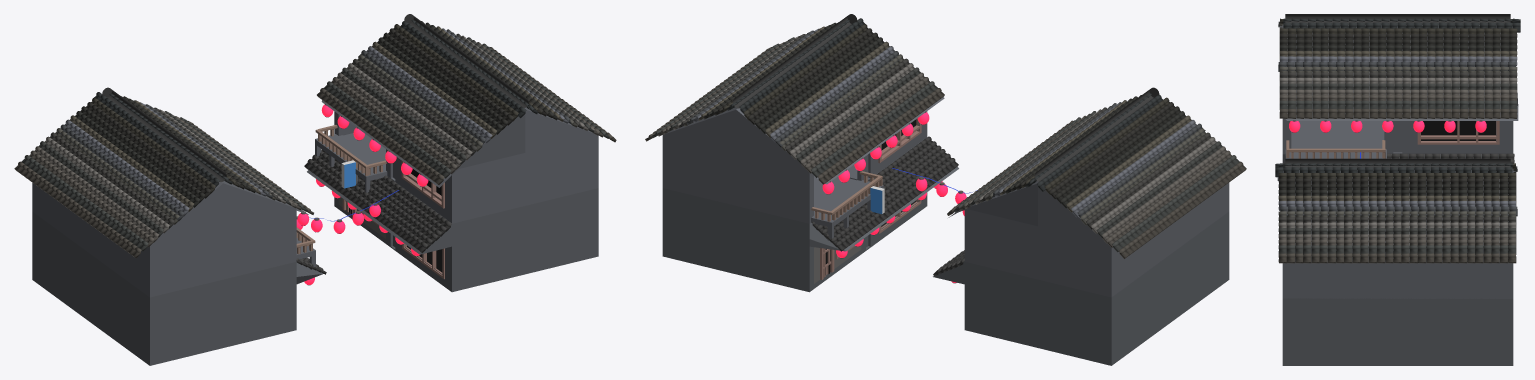
File: house_2(japansese).fbx
3 renders of one model, left to right at view 1: azimuth 30°, elevation 25°; view 2: azimuth 150°, elevation 25°; view 3: azimuth 270°, elevation 25°, orthographic.
Visible parts, largest first — view 1: 平面.004, 平面, 平面.001, 平面.002, 円.001, 円.020, 円.033, 円.034, 円.021, 円.002, 円.006, 円.030 (+30 smaller); view 2: 平面.004, 平面, 平面.001, 平面.002, 円.001, 円.020, 円.033, 円.034, 円.021, 円.006, 円.002, 円.030 (+30 smaller); view 3: 平面.002, 平面.001, 平面, 円.034, 円.021, 円.006, 円.002, 円.033, 円.020, 円柱.003, 円.026, 円柱 (+29 smaller).
Boxes of the visible parts, bbox=[...] form: 平面.004: bbox=[32, 211, 323, 365]; 平面: bbox=[32, 181, 315, 297]; 平面.001: bbox=[315, 100, 598, 223]; 平面.002: bbox=[307, 133, 598, 292]; 円.001: bbox=[304, 149, 451, 253]; 円.020: bbox=[21, 117, 307, 251]; 円.033: bbox=[323, 43, 609, 178]; 円.034: bbox=[317, 47, 616, 184]; 円.021: bbox=[14, 120, 313, 258]; 円.002: bbox=[400, 19, 538, 118]; 円.006: bbox=[94, 92, 232, 187]; 円.030: bbox=[340, 37, 594, 164]; 平面.004: bbox=[933, 211, 1229, 365]; 平面: bbox=[948, 181, 1229, 297]; 平面.001: bbox=[662, 97, 944, 240]; 平面.002: bbox=[662, 141, 958, 292]; 円.001: bbox=[812, 136, 958, 251]; 円.020: bbox=[953, 117, 1239, 252]; 円.033: bbox=[652, 43, 937, 177]; 円.034: bbox=[645, 47, 944, 184]; 円.021: bbox=[947, 120, 1246, 258]; 円.006: bbox=[1025, 93, 1162, 191]; 円.002: bbox=[727, 18, 864, 113]; 円.030: bbox=[668, 37, 920, 163]; 平面.002: bbox=[1282, 298, 1513, 365]; 平面.001: bbox=[1277, 169, 1513, 298]; 平面: bbox=[1282, 25, 1518, 158]; 円.034: bbox=[1278, 253, 1516, 263]; 円.021: bbox=[1279, 109, 1517, 118]; 円.006: bbox=[1283, 18, 1520, 32]; 円.002: bbox=[1275, 163, 1512, 177]; 円.033: bbox=[1278, 245, 1516, 254]; 円.020: bbox=[1279, 100, 1517, 109]; 円柱.003: bbox=[1285, 158, 1510, 169]; 円.026: bbox=[1280, 166, 1517, 216]; 円柱: bbox=[1285, 14, 1510, 24].
Size of the model in its own units: 2569 by 893 by 1156.
